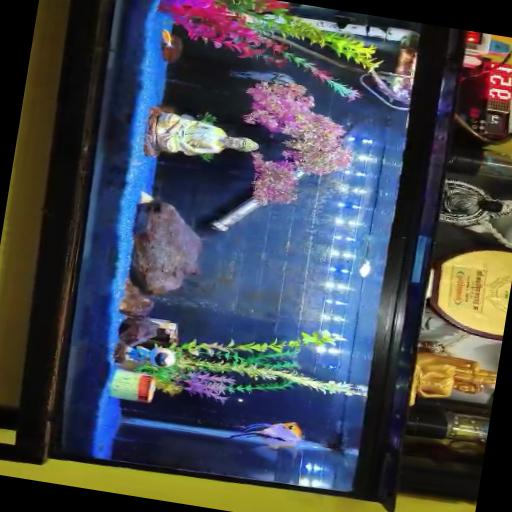Fish: (227, 421, 301, 453), (229, 70, 294, 84), (161, 28, 172, 47)
